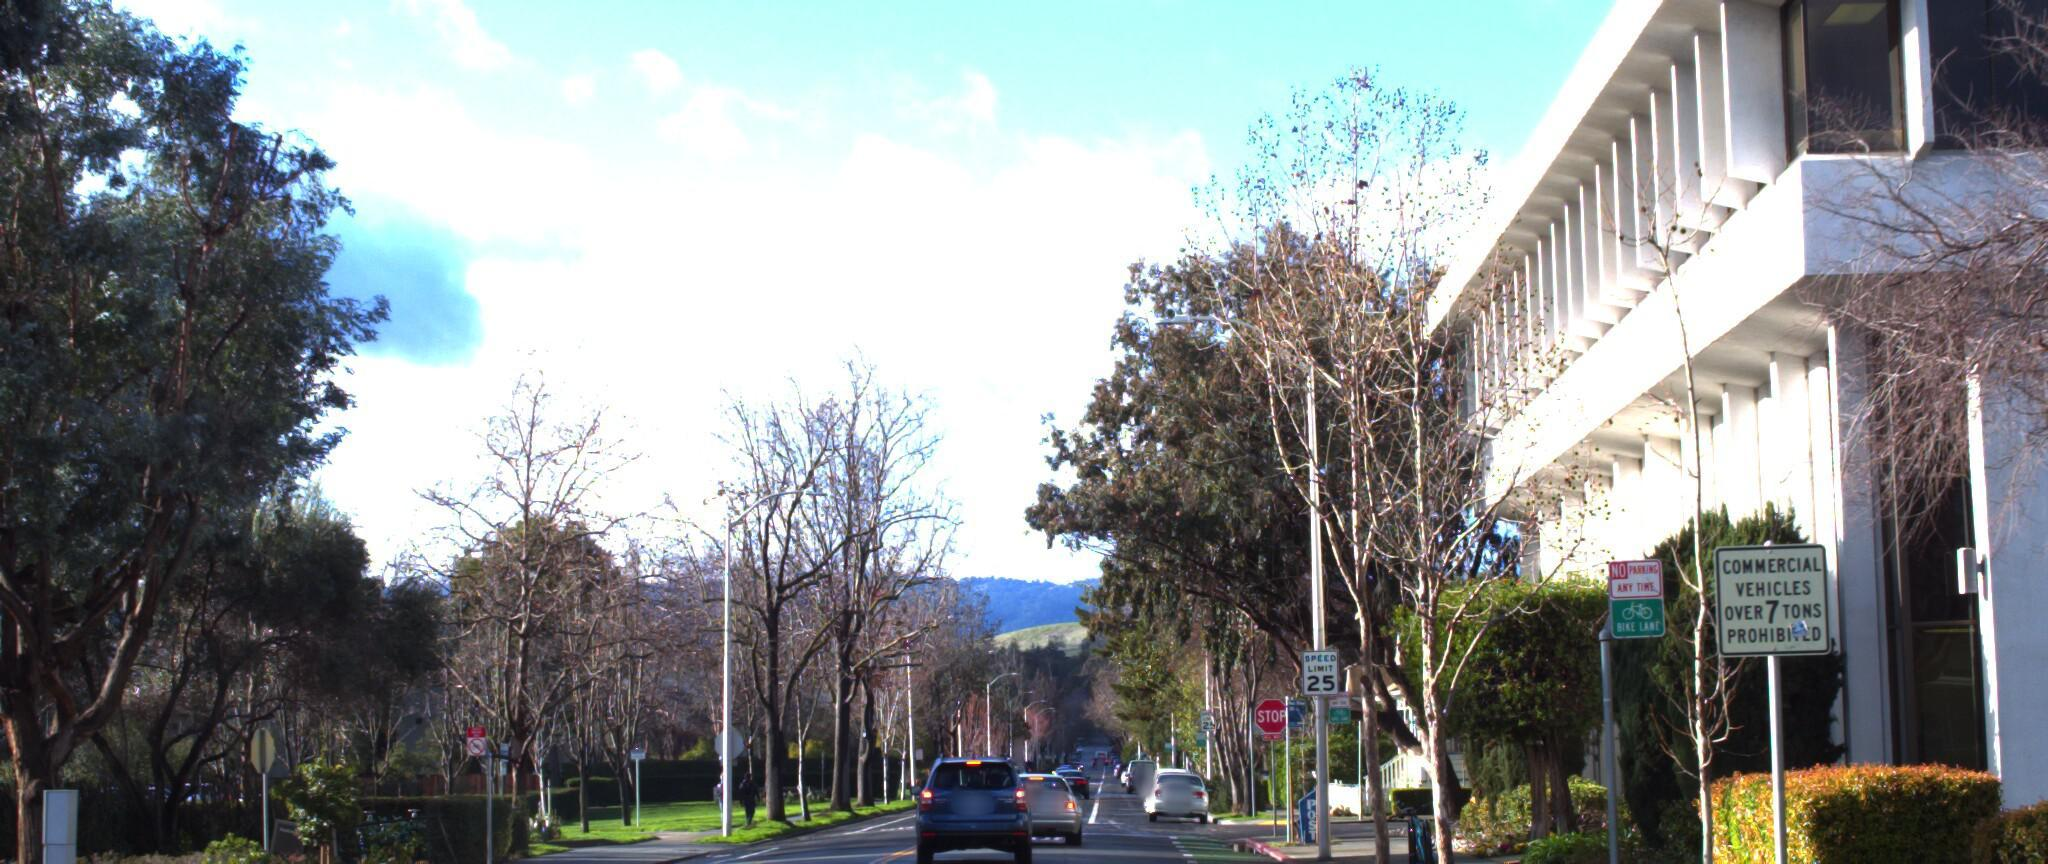bicycle: (1368, 780, 1450, 864)
car: (913, 747, 1034, 861), (980, 744, 1078, 835)
